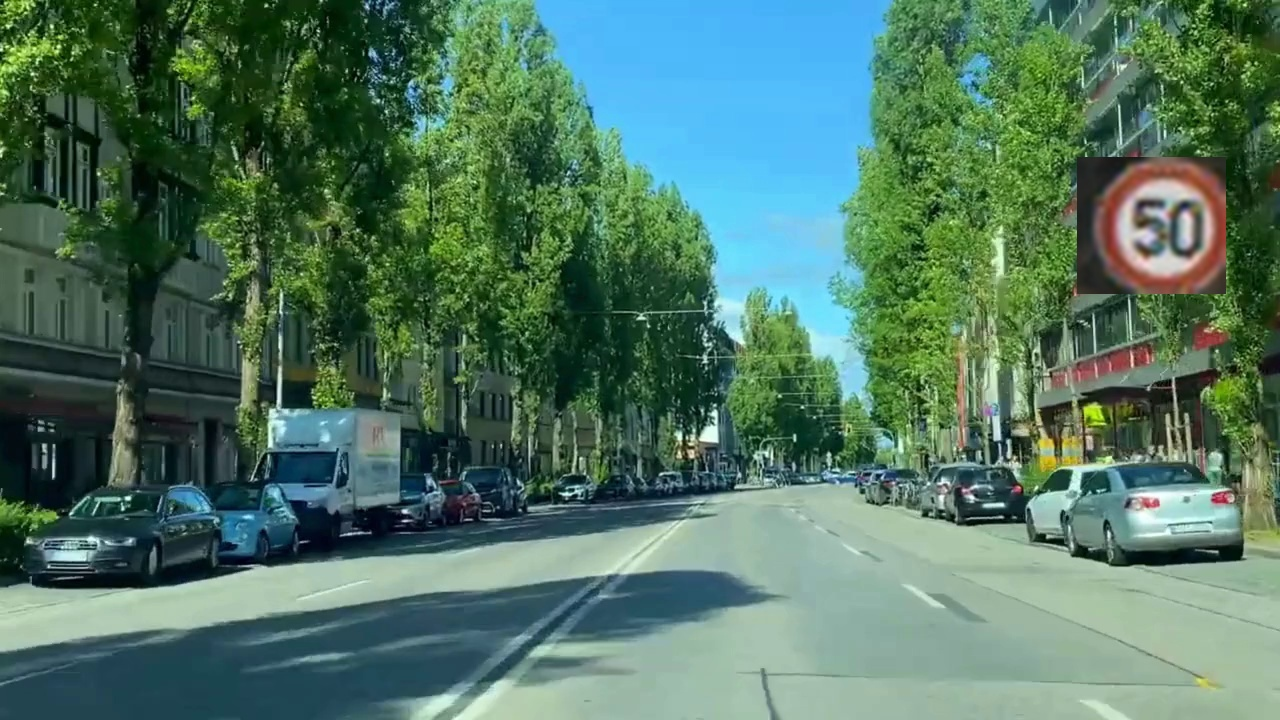Speed 50: (1077, 157, 1226, 294)
